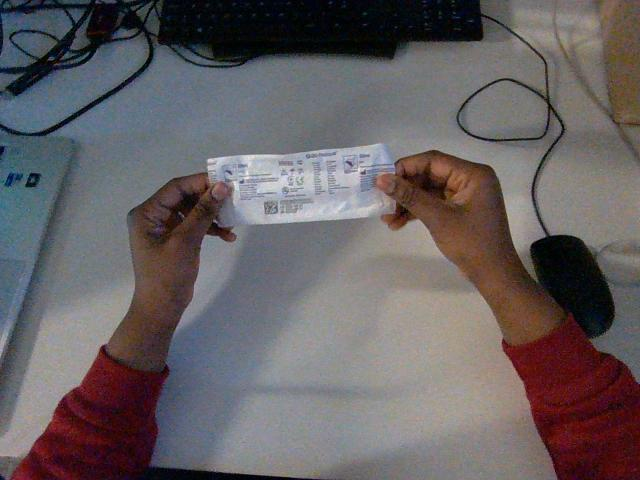syringe: (207, 144, 394, 226)
